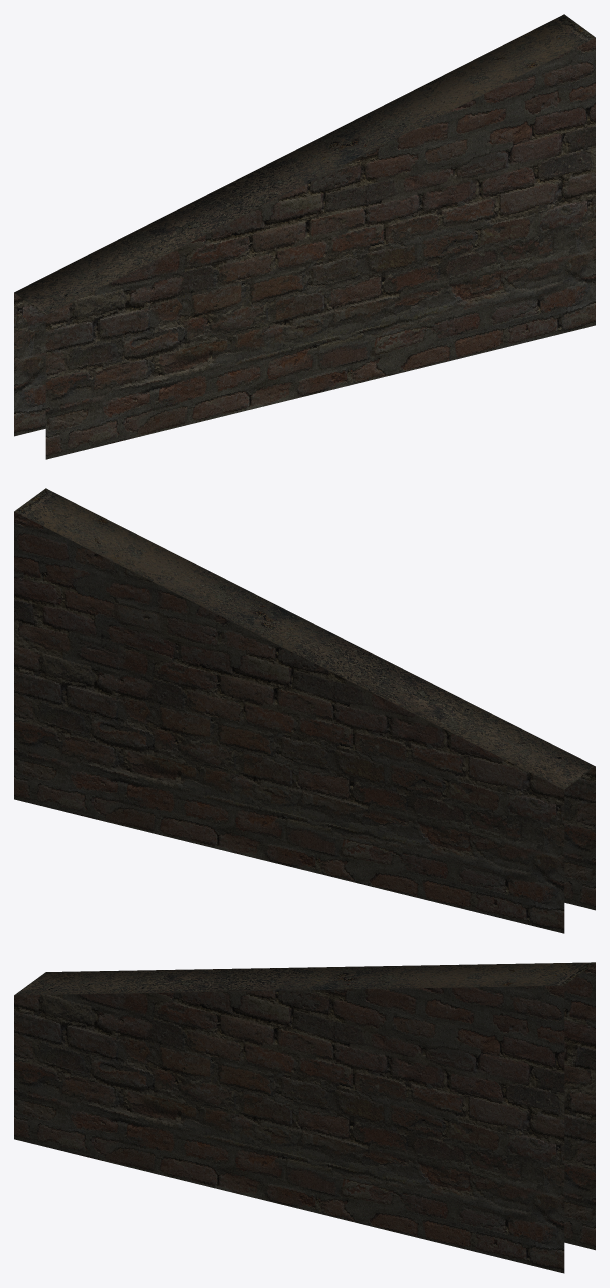
The model's file is wall_top_part_hr_2.glb.
3 renders of one model, top to bottom at view 1: azimuth 30°, elevation 25°; view 2: azimuth 150°, elevation 25°; view 3: azimuth 330°, elevation 25°, orthographic.
Visible parts, largest first — view 1: wall_top_part_hr_2; view 2: wall_top_part_hr_2; view 3: wall_top_part_hr_2.
Boxes of the visible parts, bbox=[...] form: wall_top_part_hr_2: bbox=[14, 14, 595, 459]; wall_top_part_hr_2: bbox=[14, 488, 595, 933]; wall_top_part_hr_2: bbox=[14, 962, 595, 1273].
Size of the model in its own units: 4 by 2 by 0.4.
Materials: 2 (2 with a texture image).
